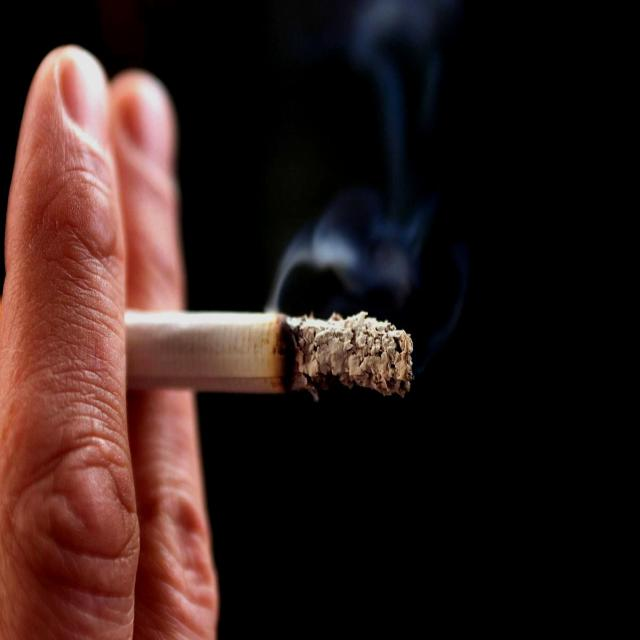cigarette: (120, 302, 418, 393)
